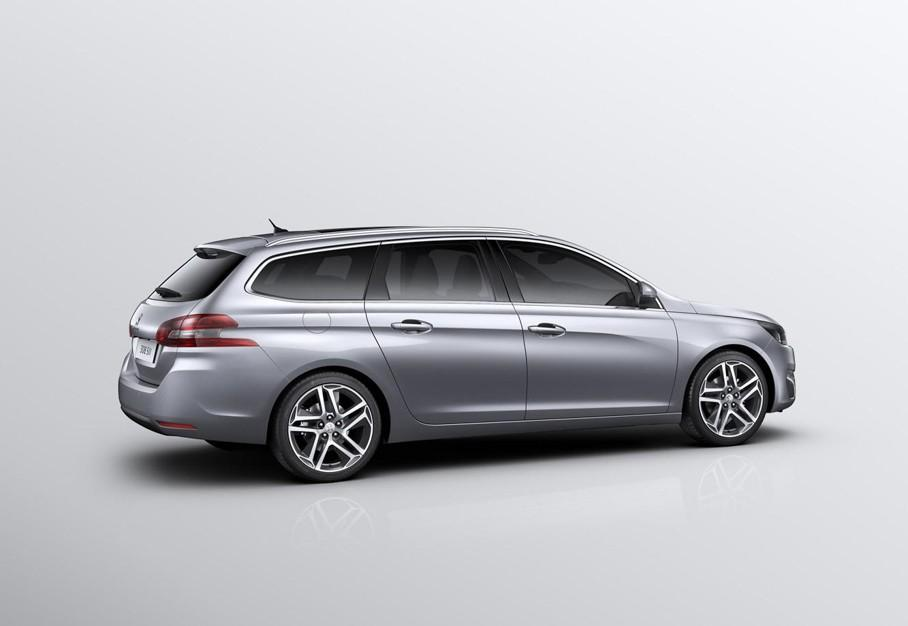Wagon: (119, 225, 798, 485)
